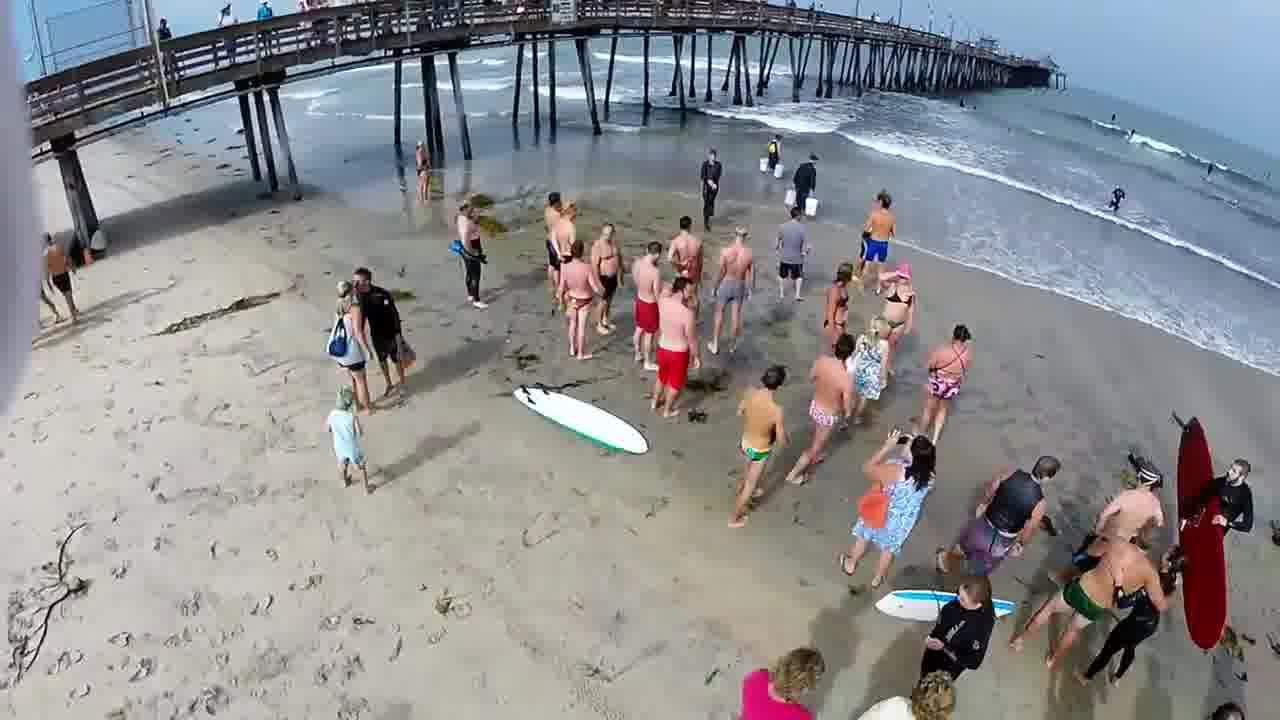human: (1095, 164, 1140, 224), (758, 120, 787, 164)
